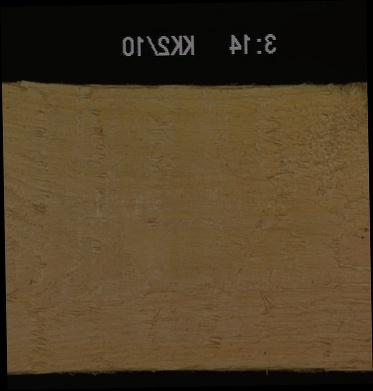small_knot: (352, 225, 369, 240)
